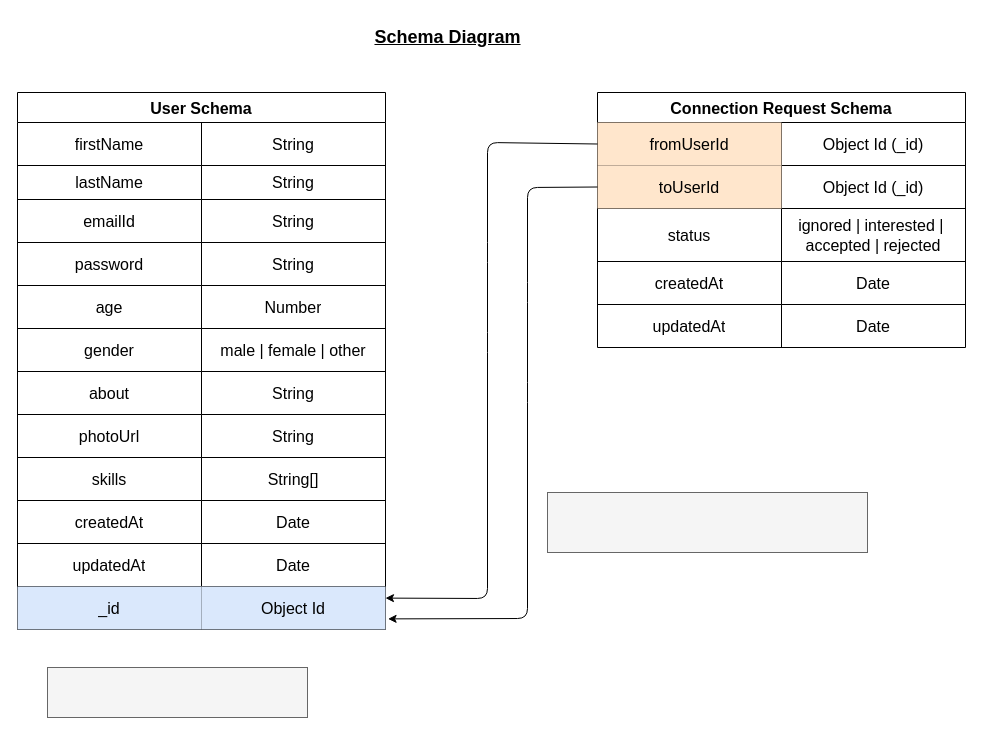
Image size: 983x735. Some labels were removed from this diagram. Each missing label, with the centre of its shape:
_id is unique and is auto generated by mongoDB: (177,692)
formUserId, toUserId are the reference to the User collection: (707,522)
